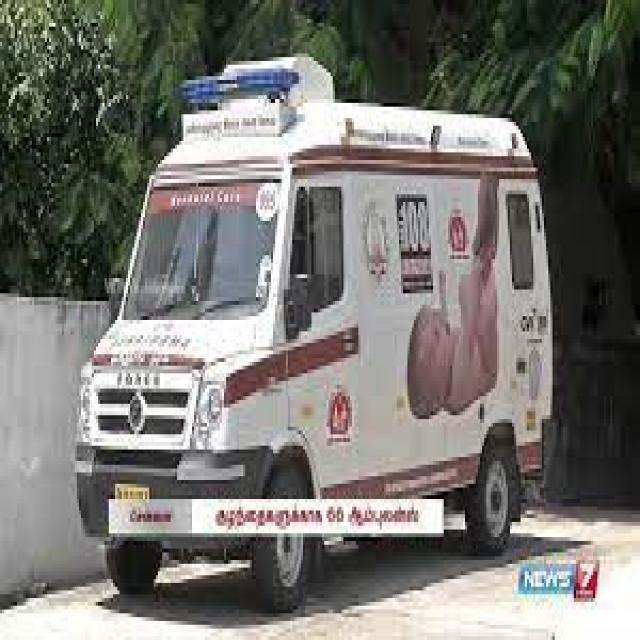ambulance: (73, 58, 553, 617)
